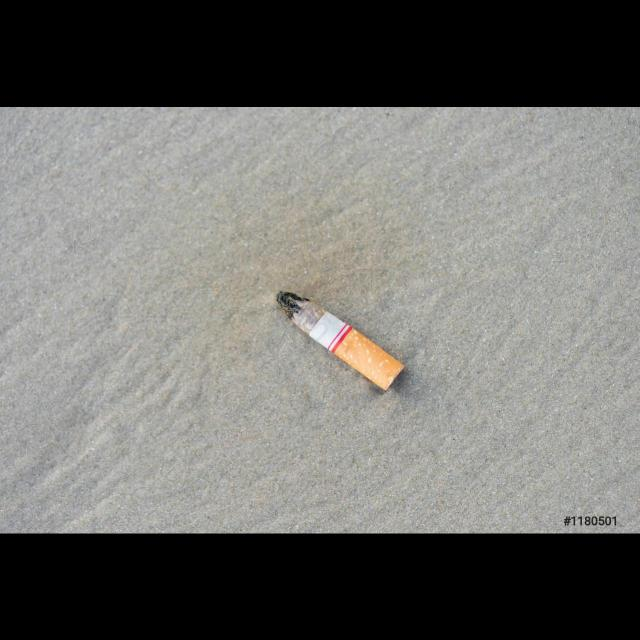cigarette: (276, 291, 404, 391)
